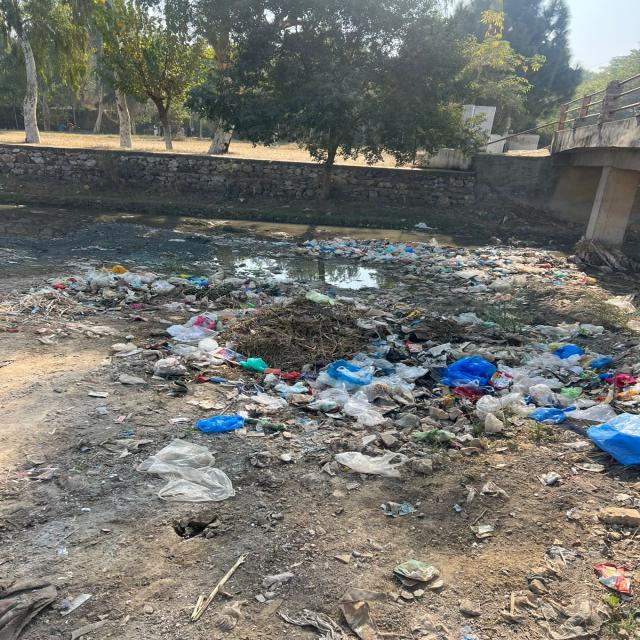garbage: (177, 306, 638, 447), (28, 264, 302, 310)
